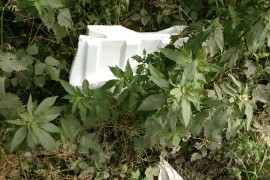trash: (63, 8, 207, 108), (146, 157, 187, 179)
